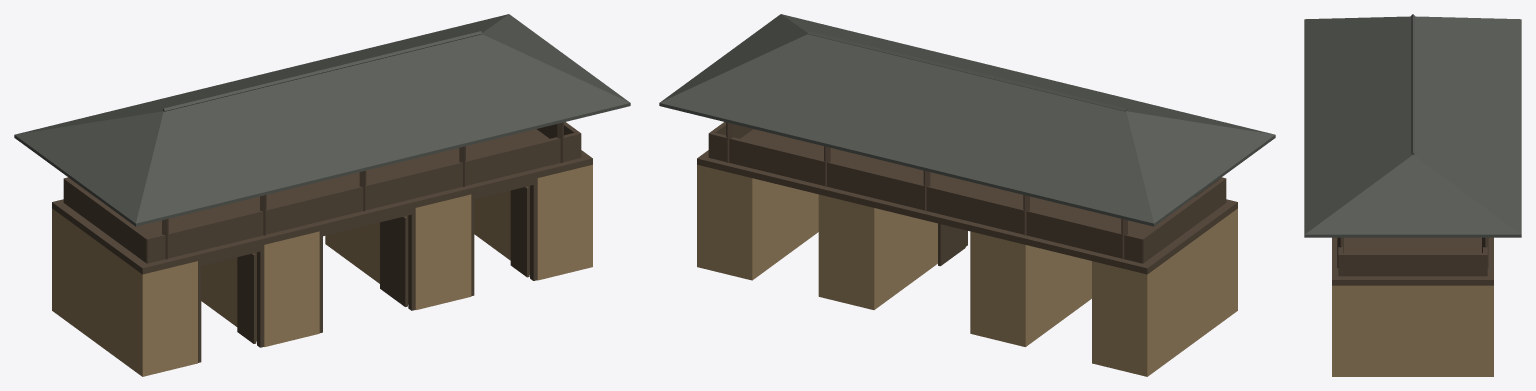
The model's file is shangxi-X-LOD2.glb.
3 views of the same model, side by side, from view 1: azimuth 30°, elevation 25°; view 2: azimuth 150°, elevation 25°; view 3: azimuth 270°, elevation 25° (orthographic). The views are drawn at different scales.
Visible parts, largest first — view 1: shangxi-X-static_tile, shangxi-X-static_earth, shangxi-X-static_timber; view 2: shangxi-X-static_tile, shangxi-X-static_earth, shangxi-X-static_timber; view 3: shangxi-X-static_tile, shangxi-X-static_earth, shangxi-X-static_timber.
Part boxes in pixels (x1,y1,x2,y2): shangxi-X-static_tile: (14,14,630,226); shangxi-X-static_earth: (52,164,592,376); shangxi-X-static_timber: (52,122,592,362); shangxi-X-static_tile: (659,14,1275,226); shangxi-X-static_earth: (697,164,1237,376); shangxi-X-static_timber: (697,122,1237,274); shangxi-X-static_tile: (1304,14,1521,237); shangxi-X-static_earth: (1332,285,1493,376); shangxi-X-static_timber: (1332,237,1493,285).
Size of the model in its own units: 26.8 by 11.34 by 11.4.
